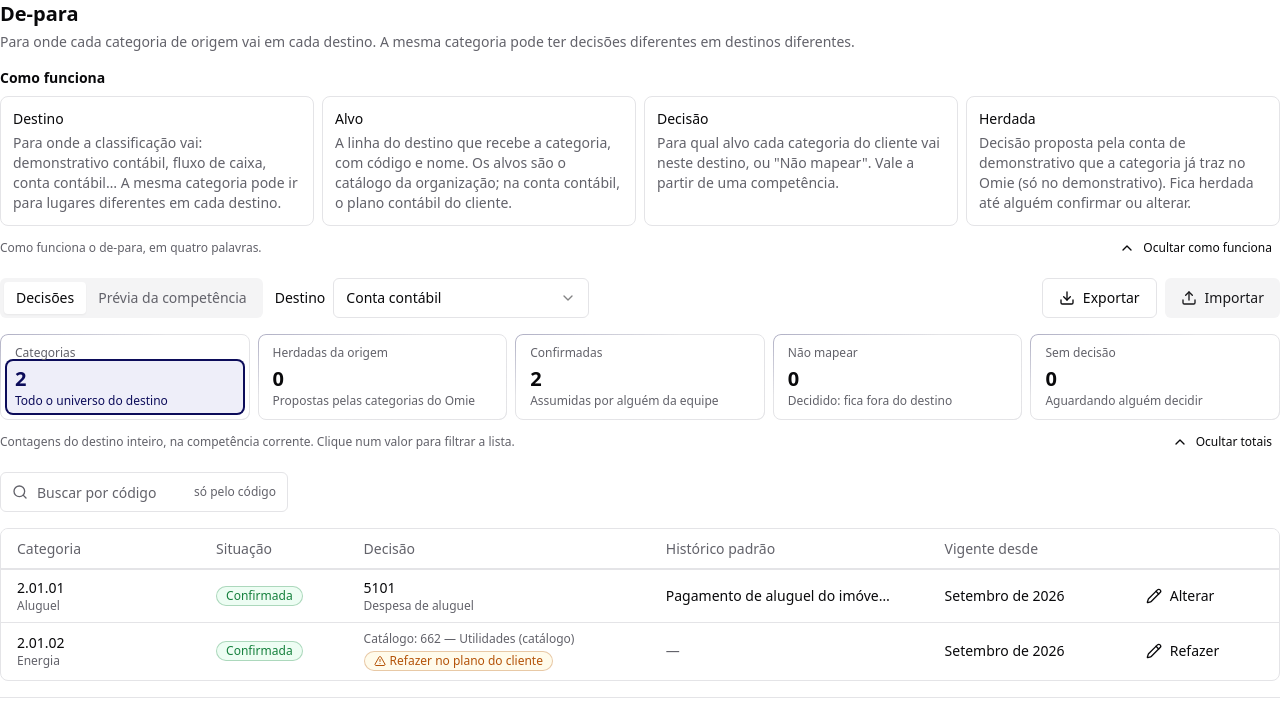
Test: conta com o selo "não veio na última importação" (86e3qhhrm) › sem o selo, nenhum aviso; escolher uma conta com o selo mostra o aviso
Click the button with aria-label "Alterar a categoria 2.01.01" at (1180, 596), box [1134,578,1226,614]
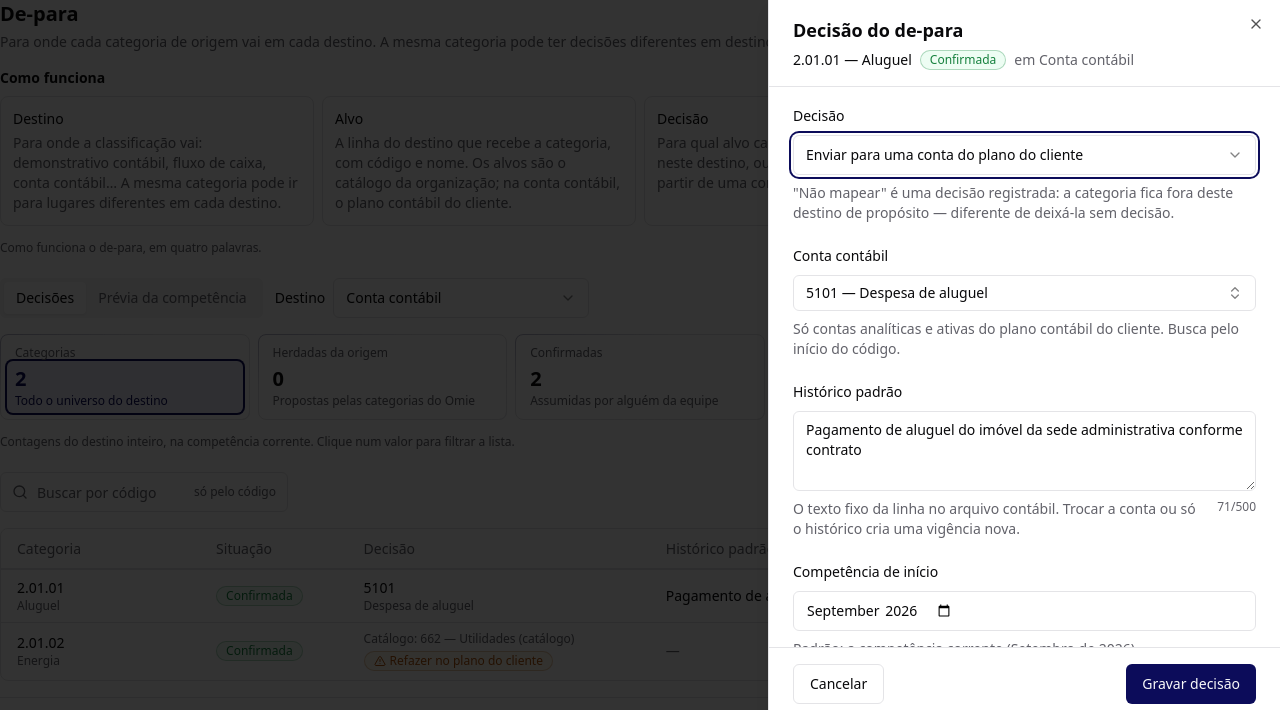
Click the button with aria-label "Conta do plano contábil do cliente: 5101" at (897, 292), box [793,275,1256,311]
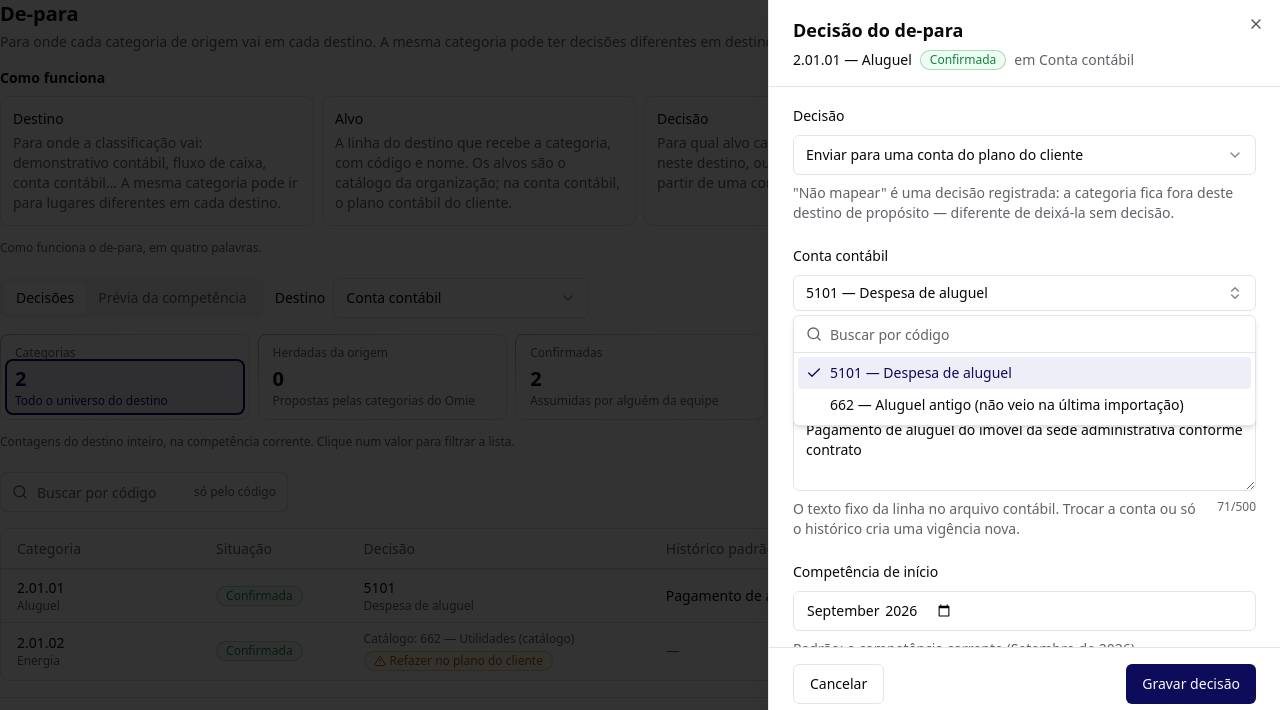
Click the option "662 — Aluguel antigo (não veio na última importação)" at (1007, 404), box [830,395,1184,414]
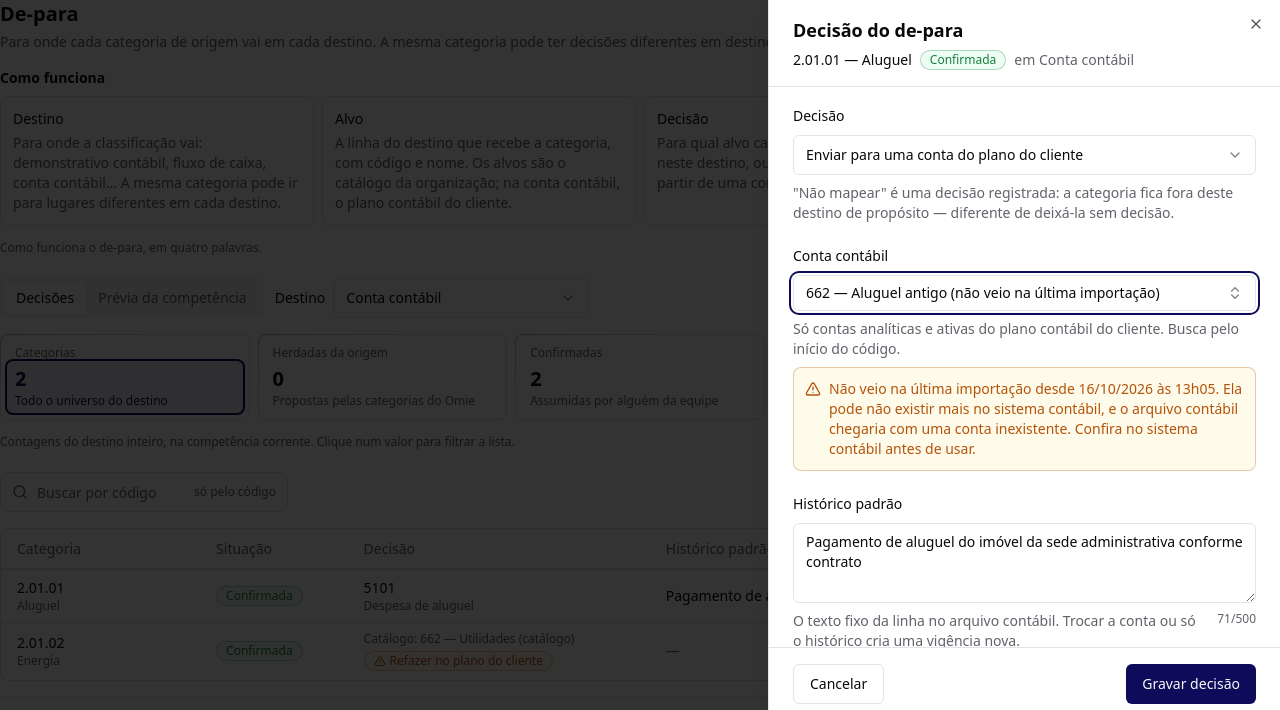
Expected: the message with test id "accounting-decision-absent-warning" is shown, [793,367,1256,471]
